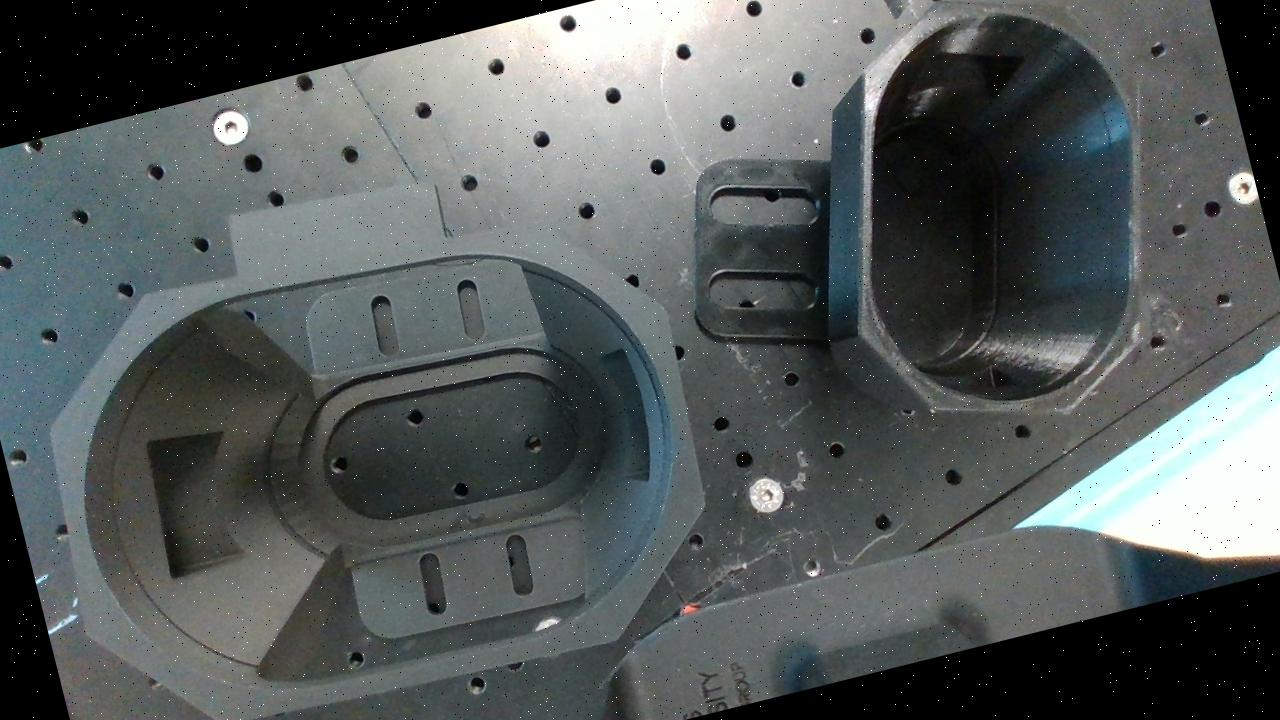big_interface: (8, 171, 743, 720)
small_interface: (785, 0, 1212, 458)
